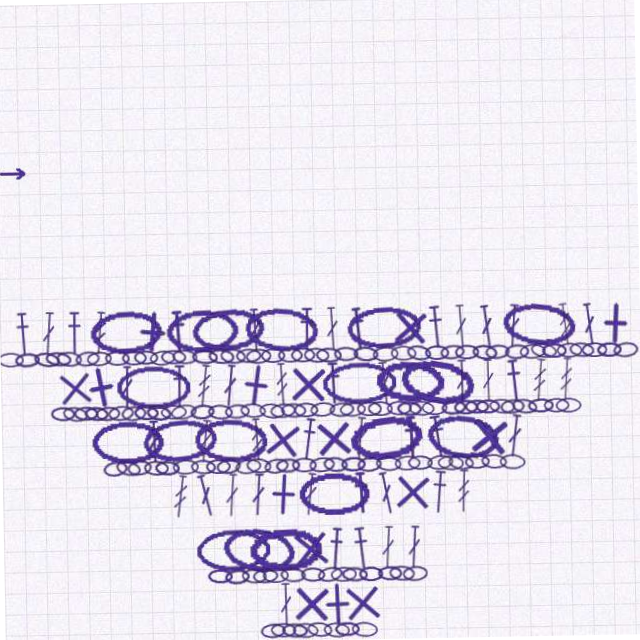chain: (396, 356, 476, 411), (216, 522, 293, 575), (422, 413, 499, 465), (345, 413, 422, 464), (500, 303, 577, 354), (139, 414, 216, 463), (190, 304, 267, 353), (243, 304, 319, 353), (191, 415, 266, 462), (346, 306, 421, 352), (373, 360, 446, 407), (165, 306, 240, 351), (244, 526, 318, 571), (89, 306, 162, 351), (192, 527, 266, 571), (115, 362, 189, 406), (321, 362, 395, 406), (89, 417, 163, 460), (295, 472, 368, 515), (112, 455, 139, 475), (168, 400, 196, 419), (529, 345, 557, 364), (312, 565, 339, 584), (405, 345, 432, 364), (509, 401, 537, 419), (32, 346, 60, 364), (232, 456, 259, 474), (445, 456, 472, 474), (60, 401, 87, 419), (257, 401, 284, 419), (100, 456, 126, 474), (261, 456, 287, 474), (144, 401, 170, 419), (471, 346, 497, 364), (275, 566, 302, 583), (384, 566, 411, 583), (306, 456, 333, 473), (424, 456, 451, 473), (478, 456, 505, 473), (106, 401, 133, 418), (238, 401, 265, 418), (487, 401, 514, 418), (44, 346, 71, 363), (55, 346, 82, 363), (207, 346, 234, 363), (219, 346, 246, 363), (301, 621, 327, 638), (124, 456, 150, 473), (213, 456, 239, 473), (243, 456, 269, 473), (320, 456, 346, 473), (188, 401, 214, 418), (308, 401, 334, 418), (74, 346, 100, 363), (171, 346, 197, 363), (352, 346, 378, 363), (439, 346, 465, 363), (568, 346, 594, 363), (268, 402, 295, 418), (276, 622, 302, 638), (287, 622, 313, 638), (318, 622, 344, 638), (346, 622, 372, 638), (248, 567, 274, 583), (337, 567, 363, 583), (354, 457, 380, 473), (373, 457, 399, 473), (435, 457, 461, 473), (497, 457, 523, 473), (82, 402, 108, 418), (119, 402, 145, 418), (279, 402, 305, 418), (327, 402, 353, 418), (338, 402, 364, 418), (407, 402, 433, 418), (439, 402, 465, 418), (498, 402, 524, 418), (149, 347, 175, 363), (191, 347, 217, 363), (245, 347, 271, 363), (303, 347, 329, 363), (315, 347, 341, 363), (372, 347, 398, 363), (484, 347, 510, 363), (519, 347, 545, 363), (612, 347, 638, 363), (255, 622, 280, 638), (220, 567, 245, 583), (237, 567, 262, 583), (398, 567, 423, 583), (141, 457, 166, 473), (152, 457, 177, 473), (188, 457, 213, 473), (273, 457, 298, 473), (94, 402, 119, 418), (206, 402, 231, 418), (223, 402, 248, 418), (395, 402, 420, 418), (14, 347, 39, 363), (86, 347, 111, 363), (504, 347, 529, 363), (265, 622, 291, 637), (258, 567, 284, 582), (326, 567, 352, 582), (170, 457, 196, 472), (392, 457, 418, 472), (159, 402, 185, 417), (420, 402, 446, 417), (526, 402, 552, 417), (542, 402, 568, 417), (554, 402, 580, 417), (160, 347, 186, 362), (235, 347, 261, 362), (390, 347, 416, 362), (556, 347, 582, 362), (581, 347, 607, 362), (329, 622, 354, 637), (203, 567, 228, 582), (296, 567, 321, 582), (354, 567, 379, 582), (373, 567, 398, 582), (203, 457, 228, 472), (289, 457, 314, 472), (338, 457, 363, 472), (405, 457, 430, 472), (462, 457, 487, 472), (49, 402, 74, 417), (72, 402, 97, 417), (132, 402, 157, 417), (292, 402, 317, 417), (355, 402, 380, 417), (366, 402, 391, 417), (385, 402, 410, 417), (452, 402, 477, 417), (463, 402, 488, 417), (474, 402, 499, 417), (104, 347, 129, 362), (121, 347, 146, 362), (133, 347, 158, 362), (260, 347, 285, 362), (277, 347, 302, 362), (290, 347, 315, 362), (333, 347, 358, 362), (424, 347, 449, 362), (454, 347, 479, 362), (541, 347, 566, 362), (596, 347, 621, 362), (0, 347, 23, 362)
double: (191, 471, 214, 516), (373, 472, 394, 516), (503, 417, 522, 461), (477, 307, 496, 351), (580, 307, 599, 351), (298, 472, 316, 516), (194, 417, 212, 461), (349, 417, 367, 461), (220, 362, 238, 406), (504, 307, 522, 351), (375, 362, 392, 406), (40, 307, 57, 350), (376, 527, 392, 570), (402, 527, 418, 570), (221, 472, 237, 515), (247, 472, 263, 515), (144, 417, 160, 460), (247, 307, 263, 350), (324, 307, 340, 350), (453, 307, 469, 350), (274, 582, 288, 625), (119, 362, 133, 405), (454, 362, 468, 405), (480, 362, 494, 405)
half_double: (424, 416, 447, 461), (347, 527, 368, 571), (296, 417, 317, 461), (322, 527, 342, 571), (426, 472, 446, 516), (503, 362, 523, 406), (348, 307, 368, 351), (426, 307, 446, 351), (168, 307, 187, 351), (400, 417, 419, 460), (349, 472, 367, 515), (323, 362, 341, 405), (14, 307, 32, 350), (298, 307, 315, 350), (170, 362, 186, 405), (66, 307, 82, 350)
noise: (1, 163, 30, 174)
single: (75, 359, 124, 408), (463, 415, 511, 463), (231, 360, 279, 408), (257, 415, 304, 463), (283, 525, 330, 572), (51, 361, 97, 407), (129, 306, 175, 352), (387, 306, 433, 352), (284, 581, 329, 626), (335, 581, 380, 626), (258, 471, 303, 516), (387, 471, 432, 516), (309, 416, 354, 461), (593, 306, 638, 351), (310, 582, 354, 626), (285, 362, 329, 406)
treble: (168, 472, 187, 516), (194, 362, 212, 406), (556, 307, 574, 351), (530, 362, 547, 406), (91, 307, 108, 351), (247, 417, 263, 460), (273, 362, 289, 405), (557, 362, 573, 405), (453, 472, 468, 515)
